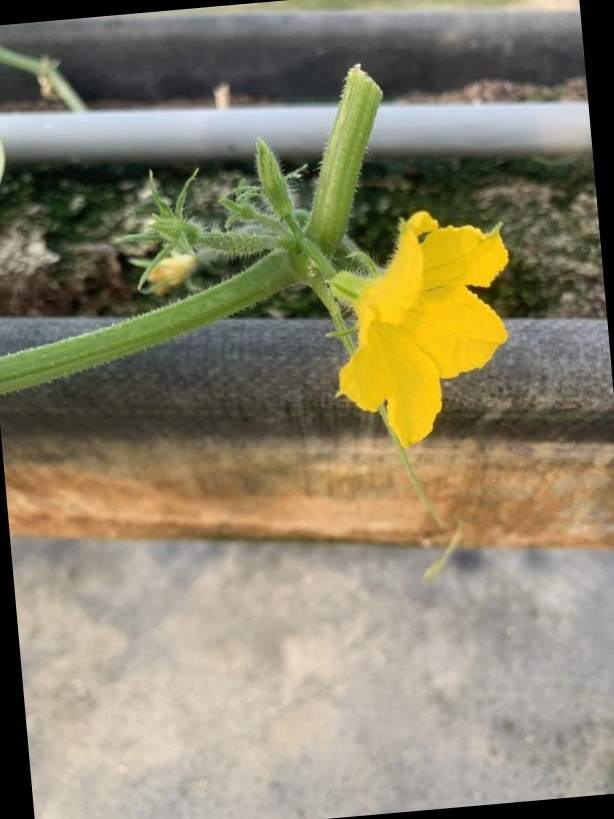flowering: (288, 209, 531, 448)
